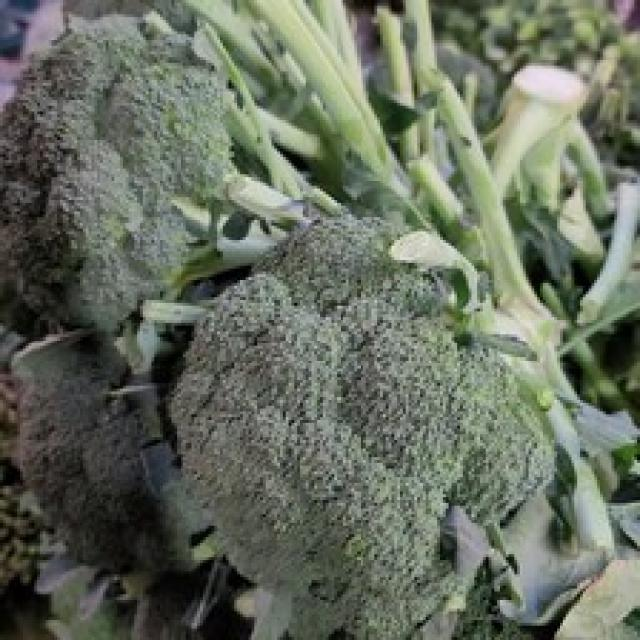Broccoli: (171, 216, 552, 640), (171, 216, 552, 640), (0, 16, 231, 335), (0, 16, 231, 335), (11, 330, 194, 571), (11, 330, 192, 571)
